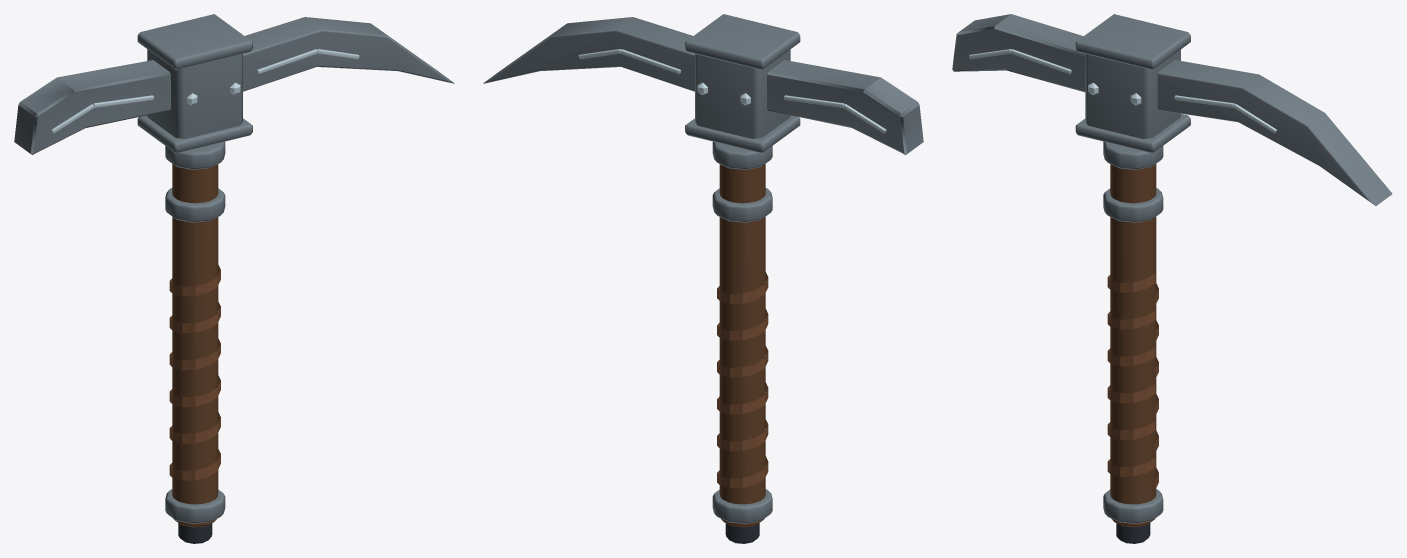
File: ferro.glb
3 views of the same model, side by side, from view 1: azimuth 30°, elevation 25°; view 2: azimuth 150°, elevation 25°; view 3: azimuth 330°, elevation 25° (orthographic).
Visible parts, largest first — view 1: ferro__Iron.001, ferro__Walnut.001, ferro__Leather_wrap.001, ferro__Steel_edge.001, ferro__Blackened_metal.001; view 2: ferro__Iron.001, ferro__Walnut.001, ferro__Leather_wrap.001, ferro__Steel_edge.001, ferro__Blackened_metal.001; view 3: ferro__Iron.001, ferro__Walnut.001, ferro__Leather_wrap.001, ferro__Steel_edge.001, ferro__Blackened_metal.001.
Part boxes in pixels (x1,y1,x2,y2): ferro__Iron.001: (14,14,454,523); ferro__Walnut.001: (172,164,218,527); ferro__Leather_wrap.001: (169,265,220,480); ferro__Steel_edge.001: (51,49,359,133); ferro__Blackened_metal.001: (178,523,212,543); ferro__Iron.001: (483,14,923,523); ferro__Walnut.001: (719,164,765,527); ferro__Leather_wrap.001: (717,272,768,488); ferro__Steel_edge.001: (578,49,886,133); ferro__Blackened_metal.001: (725,523,759,543); ferro__Iron.001: (952,14,1392,523); ferro__Walnut.001: (1110,164,1156,527); ferro__Leather_wrap.001: (1107,273,1158,489); ferro__Steel_edge.001: (969,49,1276,133); ferro__Blackened_metal.001: (1116,523,1150,543).
Size of the model in its own units: 2.77 by 3.13 by 0.4633.
